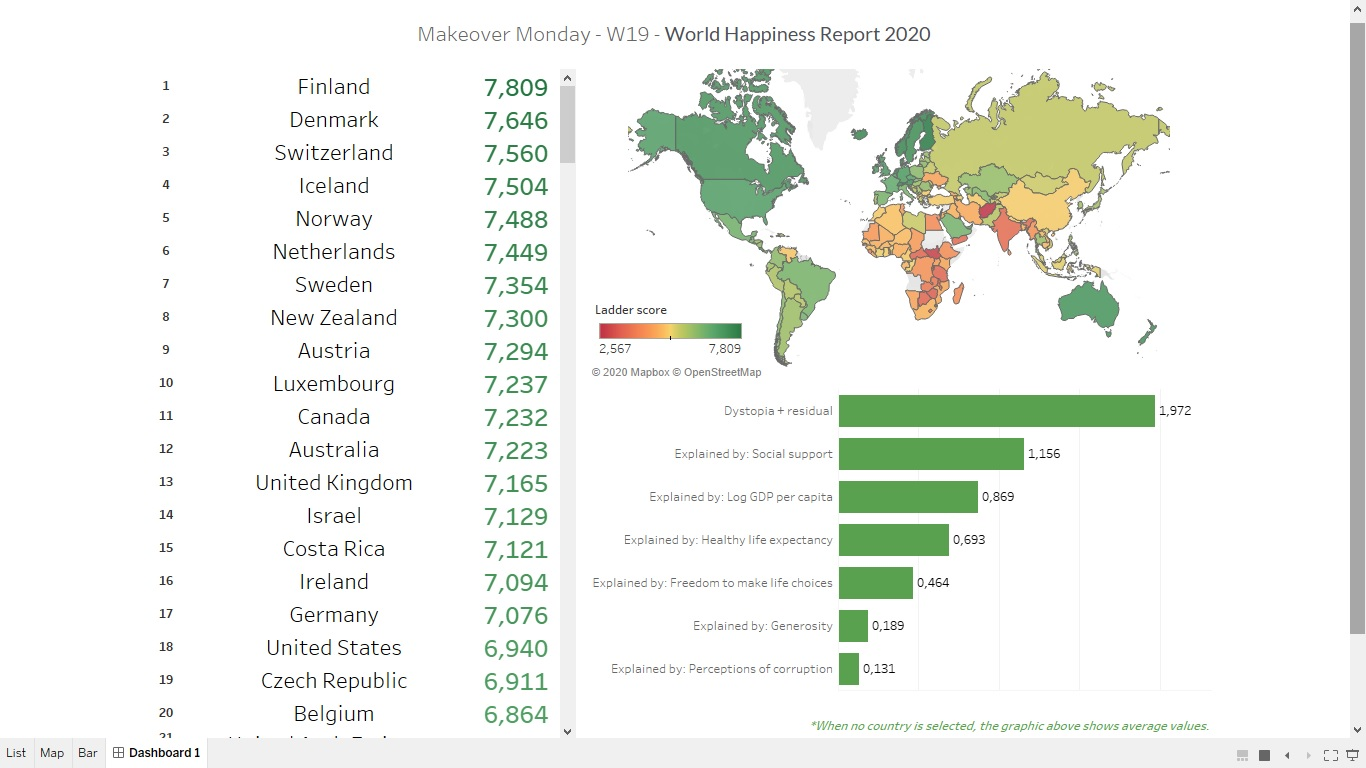

This screenshot's page, from the dashboard's own definition file:
{"tool":"powerbi","page":{"name":"Página 1","canvas":[1280,720],"ordinal":0},"visuals":[{"type":"image","box":[0,590.5,1278.1,129.5],"z":0},{"type":"barChart","fields":{"Category":["Sheet1.Country name","Sheet1.Ranking"],"Y":["Sum(Sheet1.Ladder score)"],"Series":["Sheet1.Regional indicator"]},"box":[0,80.3,682.4,558.1],"z":1000},{"type":"filledMap","fields":{"Category":["Sheet1.Country name"],"Series":["Sheet1.Regional indicator"]},"box":[681.9,82,598.1,236.6],"z":2000},{"type":"slicer","fields":{"Values":["Sheet1.Regional indicator"]},"box":[676.3,0,288.8,80.1],"z":3000},{"type":"card","fields":{"Values":["Min(Sheet1.Country name)"]},"box":[681.9,318.6,598.1,54],"z":4000},{"type":"card","fields":{"Values":["Sum(Sheet1.Ladder score)"]},"box":[876.7,372.9,208.5,86.8],"z":5000},{"type":"card","fields":{"Values":["Sum(Sheet1.Explained by: Freedom to make life choices)"]},"box":[870.1,460.2,221.7,87.6],"z":6000},{"type":"card","fields":{"Values":["Sum(Sheet1.Explained by: Generosity)"]},"box":[1093.7,372.6,178.9,87.6],"z":7000},{"type":"card","fields":{"Values":["Sum(Sheet1.Explained by: Healthy life expectancy)"]},"box":[681.2,554.2,189.1,84.2],"z":8000},{"type":"card","fields":{"Values":["Sum(Sheet1.Explained by: Log GDP per capita)"]},"box":[681.9,460.2,182.6,87.6],"z":9000},{"type":"card","fields":{"Values":["Sum(Sheet1.Explained by: Perceptions of corruption)"]},"box":[868.9,554.2,224,84.2],"z":10000},{"type":"card","fields":{"Values":["Sum(Sheet1.Explained by: Social support)"]},"box":[1091.8,460.2,186.3,87.6],"z":11000},{"type":"card","fields":{"Values":["Avg(Sheet1.Dystopia + residual)"]},"box":[1085.2,547.8,194.2,90.6],"z":12000},{"type":"card","fields":{"Values":["Sum(Sheet1.Ranking)"]},"box":[681.9,372.6,177,87.6],"z":13000},{"type":"textbox","box":[0,23.3,682.4,58.3],"z":14000},{"type":"slicer","fields":{"Values":["Sheet1.Country name"]},"box":[965.1,0,314.9,80.1],"z":15000},{"type":"textbox","box":[0,678.2,1278.1,41],"z":16000}]}

Visuals, with their boxes on the page's 1280x720 design canvas (x1, y1, x2, y2). These are canvas units, not pixel positions in the 1366x768 screenshot, which may show the page scaled, cropped or inside an application window:
image: [0, 590, 1278, 720]
barChart - Sheet1.Country name x Sheet1.Ranking: [0, 80, 682, 638]
filledMap - Sheet1.Country name x Sheet1.Regional indicator: [682, 82, 1280, 319]
slicer - Sheet1.Regional indicator: [676, 0, 965, 80]
card - Min(Sheet1.Country name): [682, 319, 1280, 373]
card - Sum(Sheet1.Ladder score): [877, 373, 1085, 460]
card - Sum(Sheet1.Explained by: Freedom to make life choices): [870, 460, 1092, 548]
card - Sum(Sheet1.Explained by: Generosity): [1094, 373, 1273, 460]
card - Sum(Sheet1.Explained by: Healthy life expectancy): [681, 554, 870, 638]
card - Sum(Sheet1.Explained by: Log GDP per capita): [682, 460, 864, 548]
card - Sum(Sheet1.Explained by: Perceptions of corruption): [869, 554, 1093, 638]
card - Sum(Sheet1.Explained by: Social support): [1092, 460, 1278, 548]
card - Avg(Sheet1.Dystopia + residual): [1085, 548, 1279, 638]
card - Sum(Sheet1.Ranking): [682, 373, 859, 460]
textbox: [0, 23, 682, 82]
slicer - Sheet1.Country name: [965, 0, 1280, 80]
textbox: [0, 678, 1278, 719]
